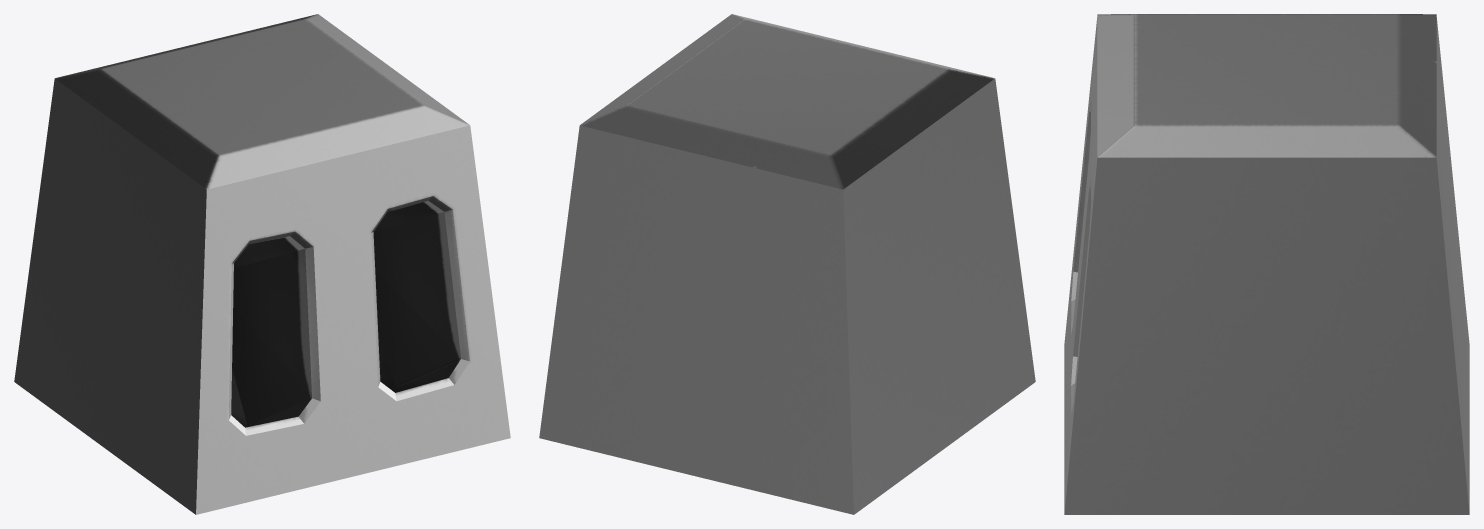
File: manualgun_tower.obj
3 views of the same model, side by side, from view 1: azimuth 30°, elevation 25°; view 2: azimuth 150°, elevation 25°; view 3: azimuth 270°, elevation 25° (orthographic). The views are drawn at different scales.
Parts seen in each view (by area): view 1: gunTower; view 2: gunTower; view 3: gunTower.
Boxes of the visible parts, left/top/right/bottom form: gunTower: left=14, top=14, right=510, bottom=514; gunTower: left=539, top=14, right=1035, bottom=514; gunTower: left=1064, top=14, right=1469, bottom=514.
Bounding box in the file's own units: 10.77 × 10.55 × 10.77.
Materials: 1 (1 with a texture image).
